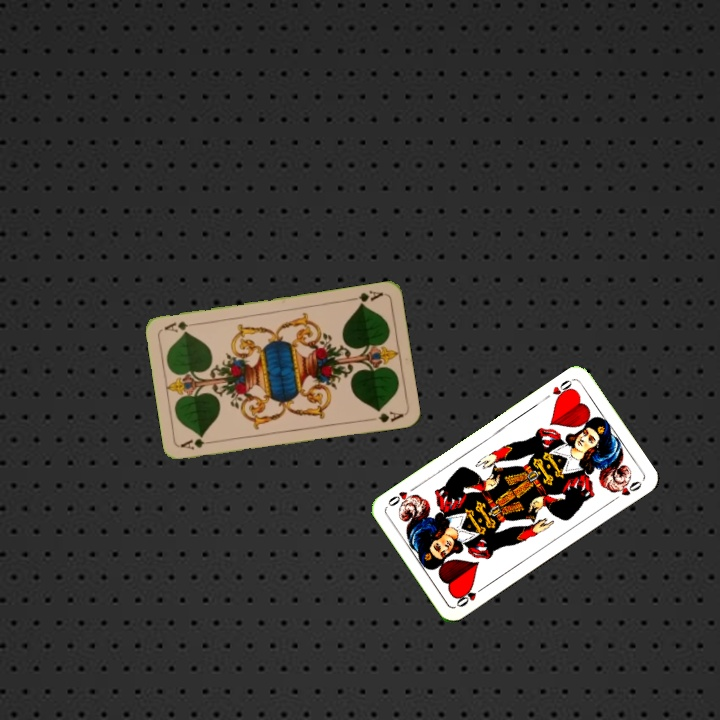GA: (346, 286, 385, 308), (177, 435, 218, 452)
HO: (452, 582, 488, 610), (548, 375, 576, 404)
